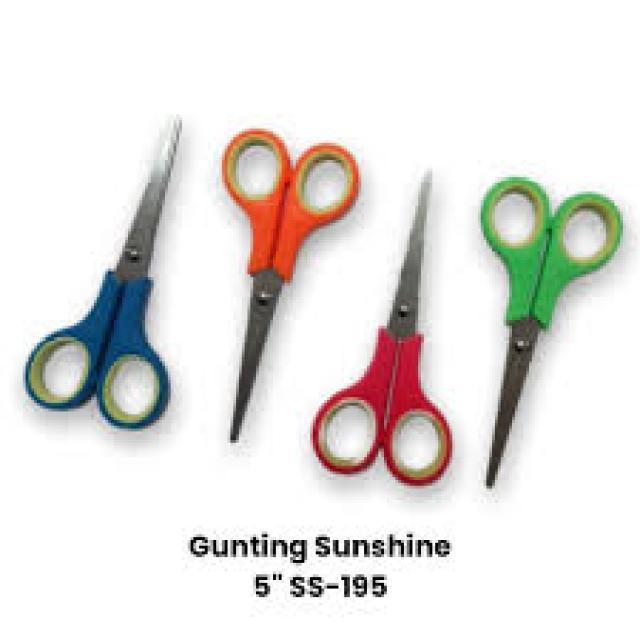Scissors: (18, 94, 204, 458), (201, 95, 365, 479), (300, 126, 464, 502), (466, 133, 622, 510)
